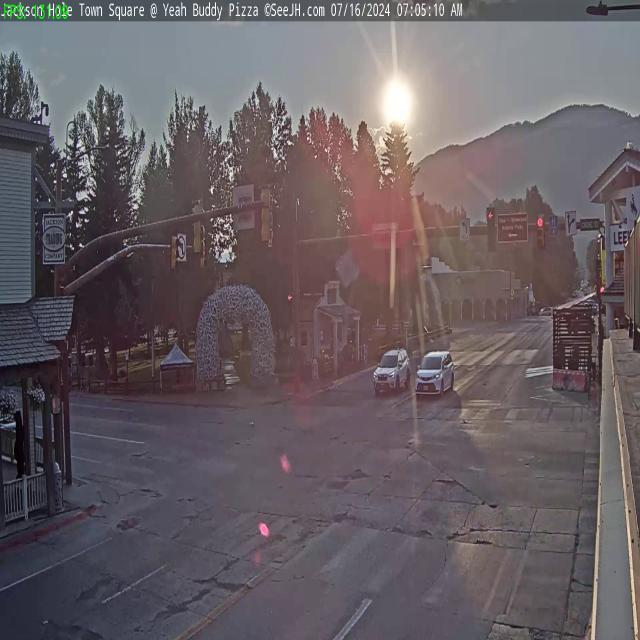suv: (373, 344, 412, 394)
traffic light: (261, 184, 273, 246), (191, 200, 203, 256), (487, 208, 496, 252), (536, 215, 545, 248)
van: (415, 348, 454, 397)
